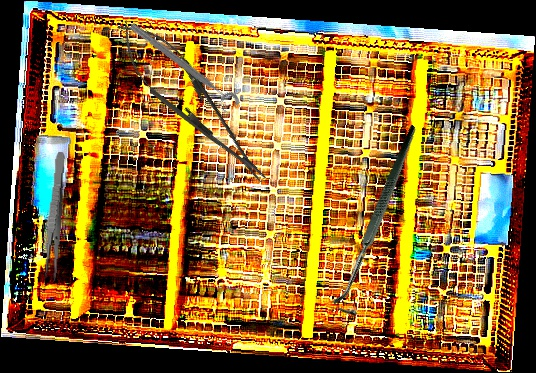Dressing Forceps: (43, 151, 66, 281)
Fixation Ring: (122, 19, 243, 117)
Hook Surgical: (278, 124, 483, 322)
Needle Holder: (102, 6, 282, 199)
